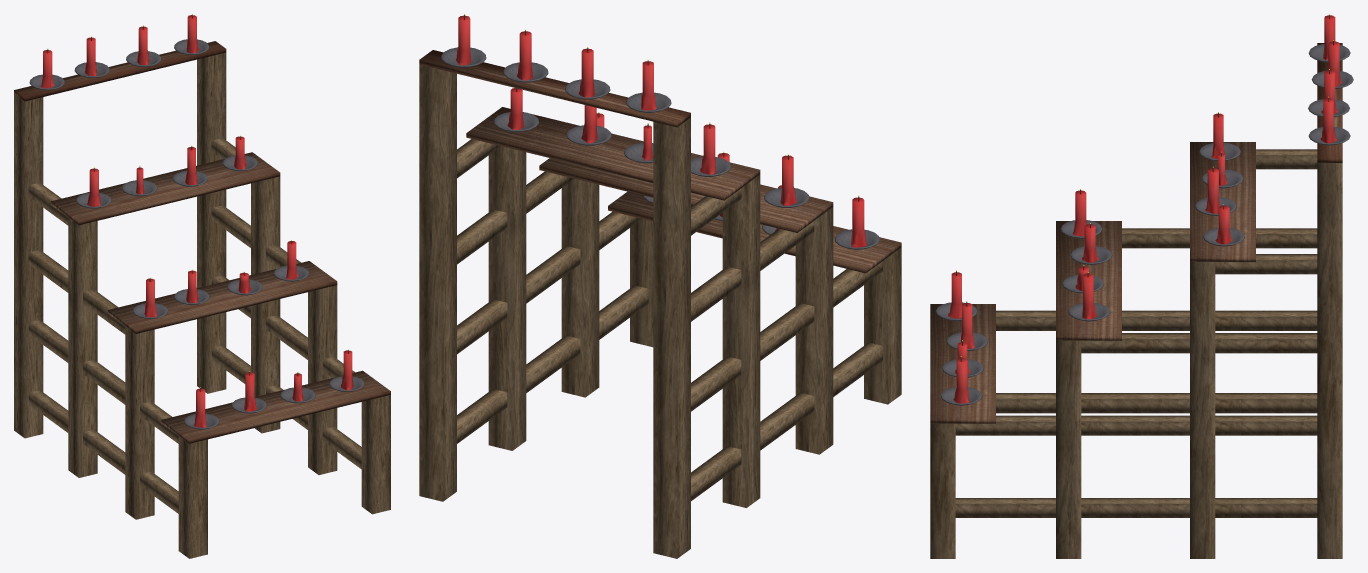
The model's file is Zhutai_1.FBX.
The picture shows the model from 3 angles, left to right: view 1: azimuth 30°, elevation 25°; view 2: azimuth 150°, elevation 25°; view 3: azimuth 270°, elevation 25°; orthographic projection. The views are drawn at different scales.
Visible parts, largest first — view 1: Zhutai_1; view 2: Zhutai_1; view 3: Zhutai_1.
Boxes of the visible parts, x1,y1,x2,y2 form: Zhutai_1: (14,14,390,558); Zhutai_1: (419,14,901,558); Zhutai_1: (930,14,1353,558).
Size of the model in its own units: 26.95 by 48.44 by 41.75.
